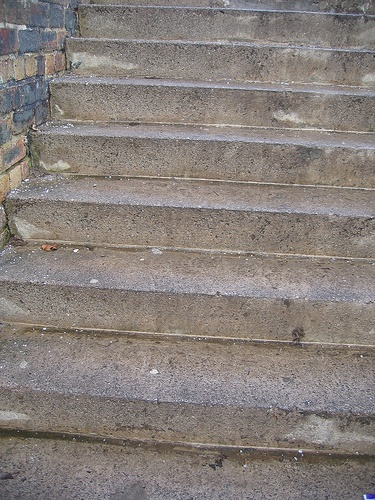stairs_up: (3, 4, 375, 450)
